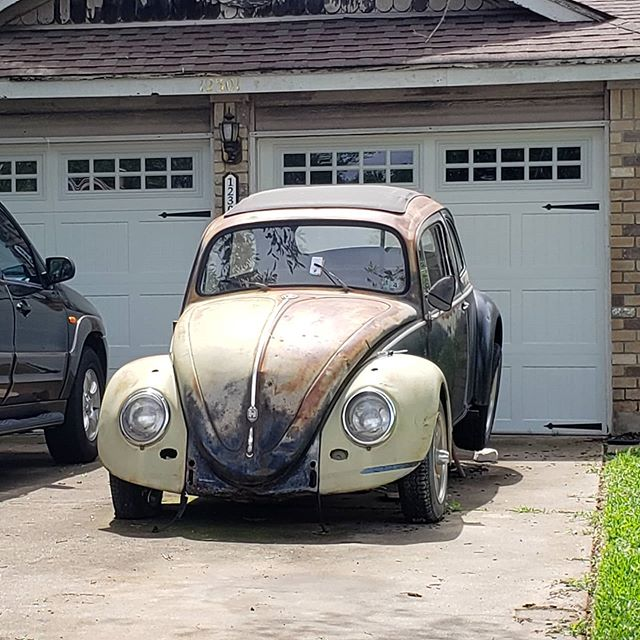building: (1, 1, 634, 432)
car: (106, 186, 500, 531)
